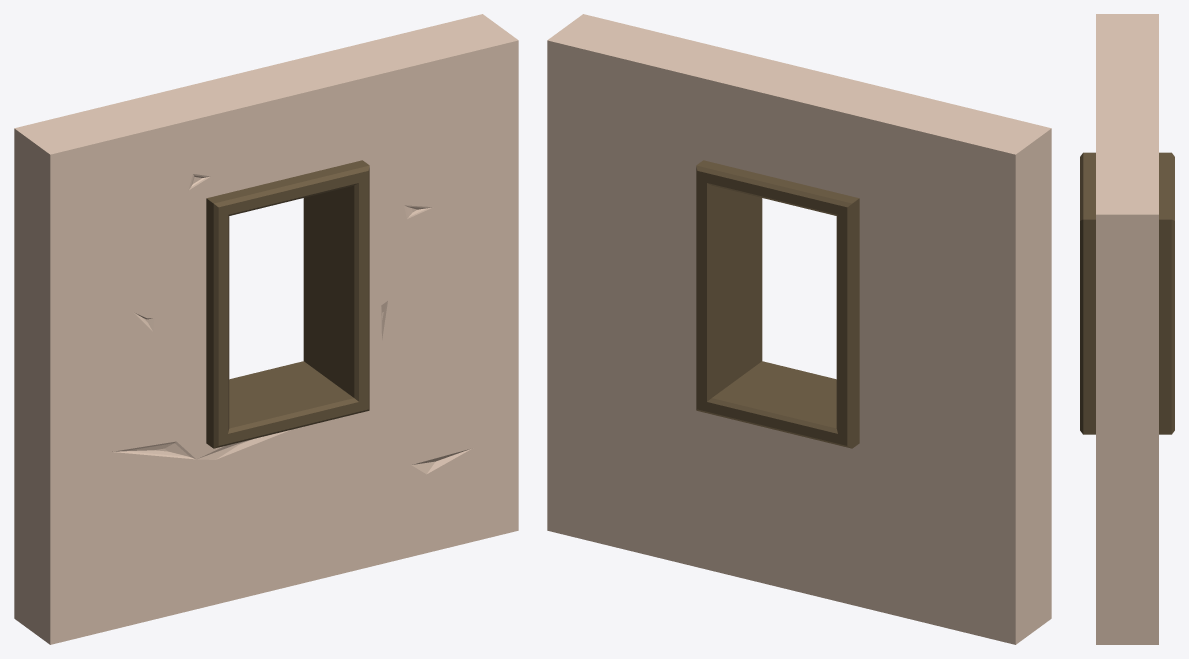
Rendered from greek_wall_2_window.fbx.
3 views of the same model, side by side, from view 1: azimuth 30°, elevation 25°; view 2: azimuth 150°, elevation 25°; view 3: azimuth 270°, elevation 25° (orthographic). The views are drawn at different scales.
Parts seen in each view (by area): view 1: Cube.077; view 2: Cube.077; view 3: Cube.077.
Boxes of the visible parts, box(x1,y1,x2,y2) form: Cube.077: box(14, 14, 518, 644); Cube.077: box(547, 14, 1051, 644); Cube.077: box(1080, 14, 1174, 644).
Size of the model in its own units: 300 by 300 by 60.
